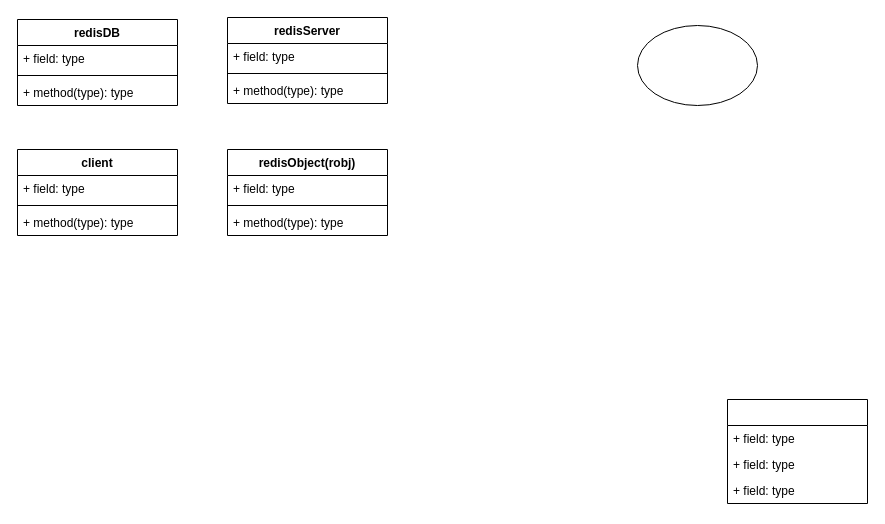
Some shapes in this 885 by 524 pixel diagram are drawn without their labels. Here are the shapes that lost their labels. From the top down, the box of each, then its label:
(636, 24, 758, 106): rdb
(726, 398, 868, 504): rdbSaveInfo
